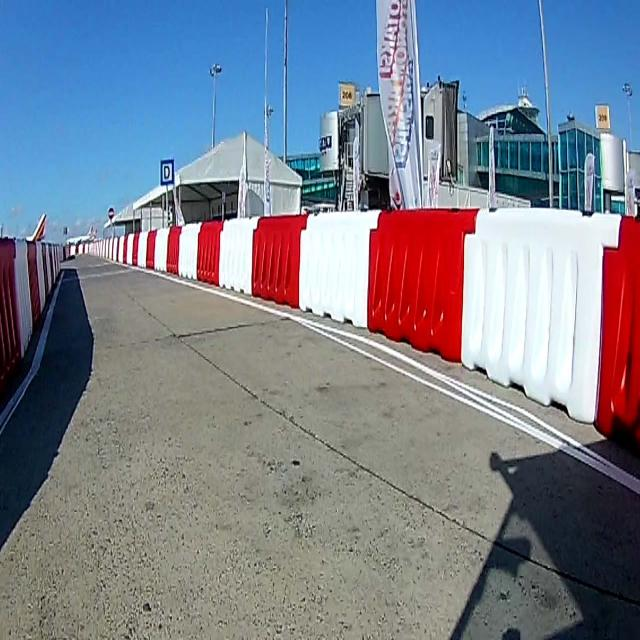durak: (160, 158, 174, 186)
girisyok: (108, 206, 114, 218)
